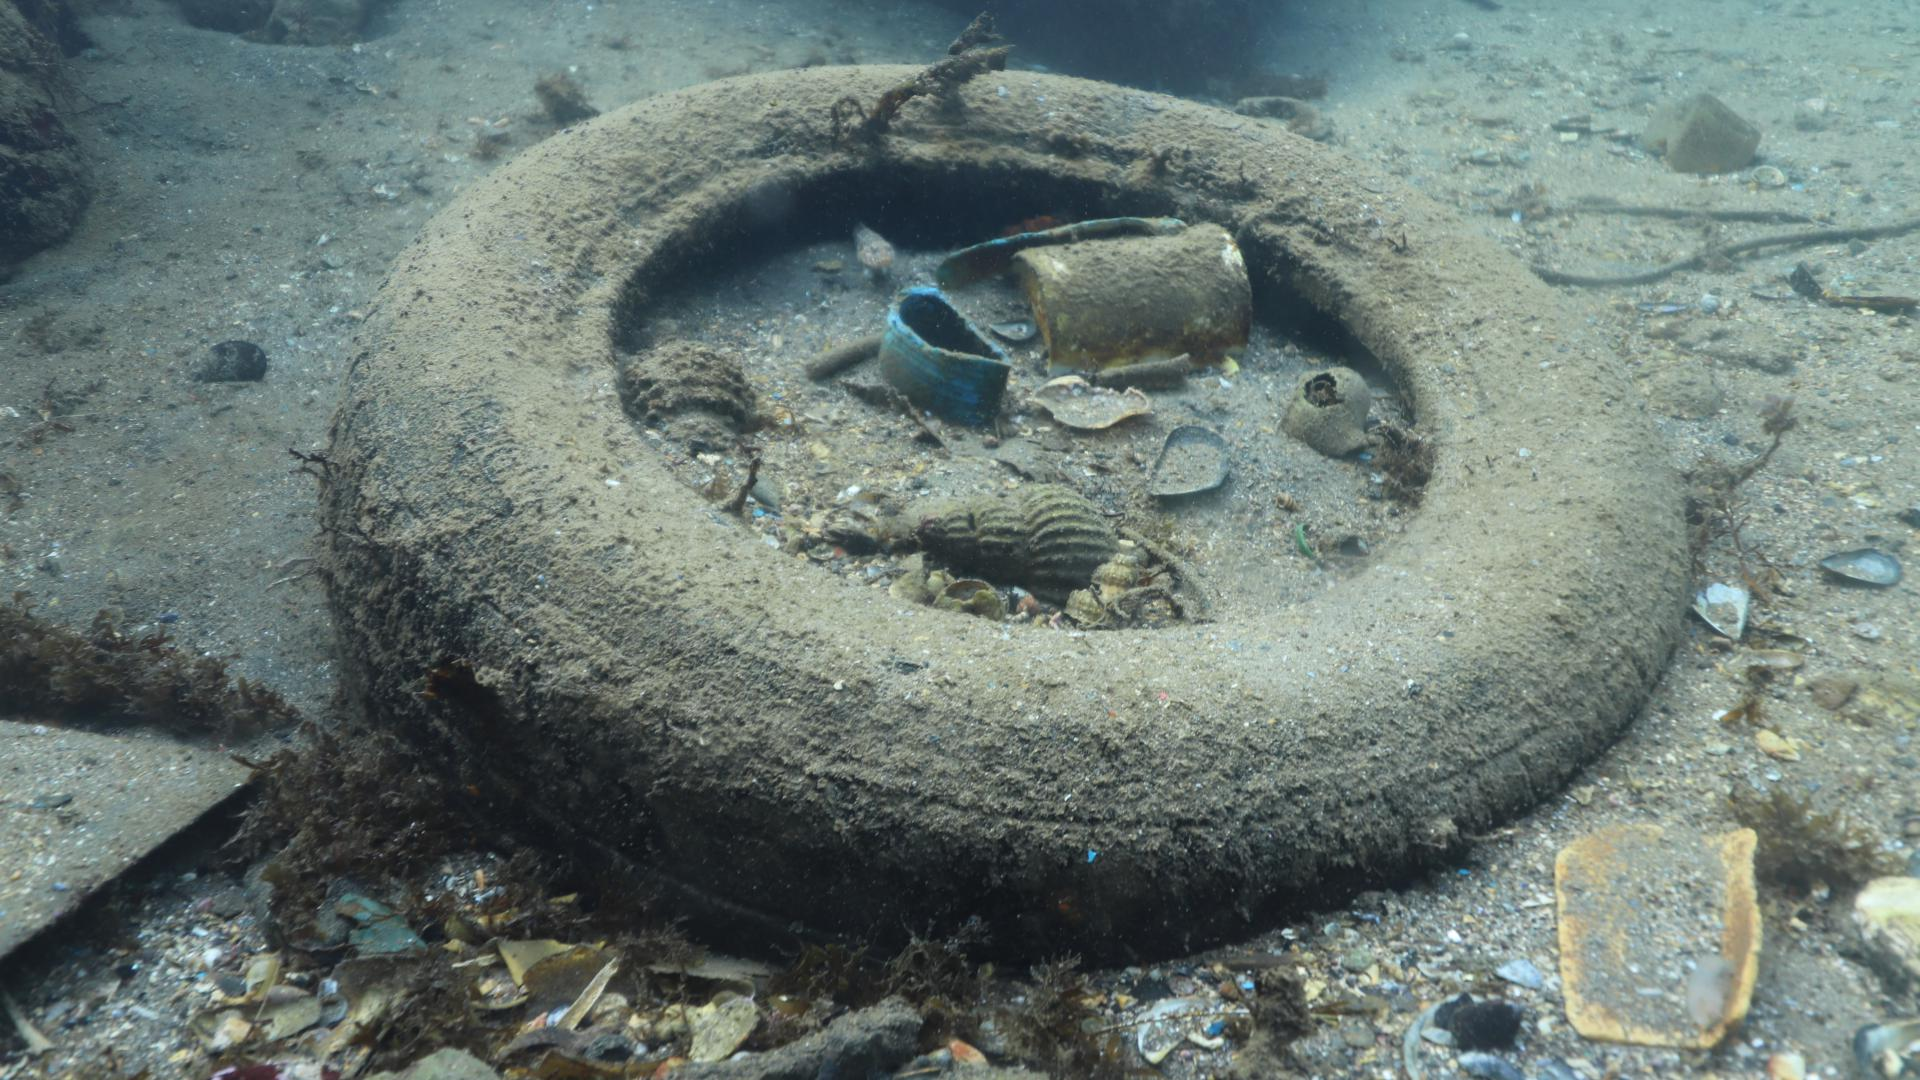tire: (319, 61, 1692, 965)
